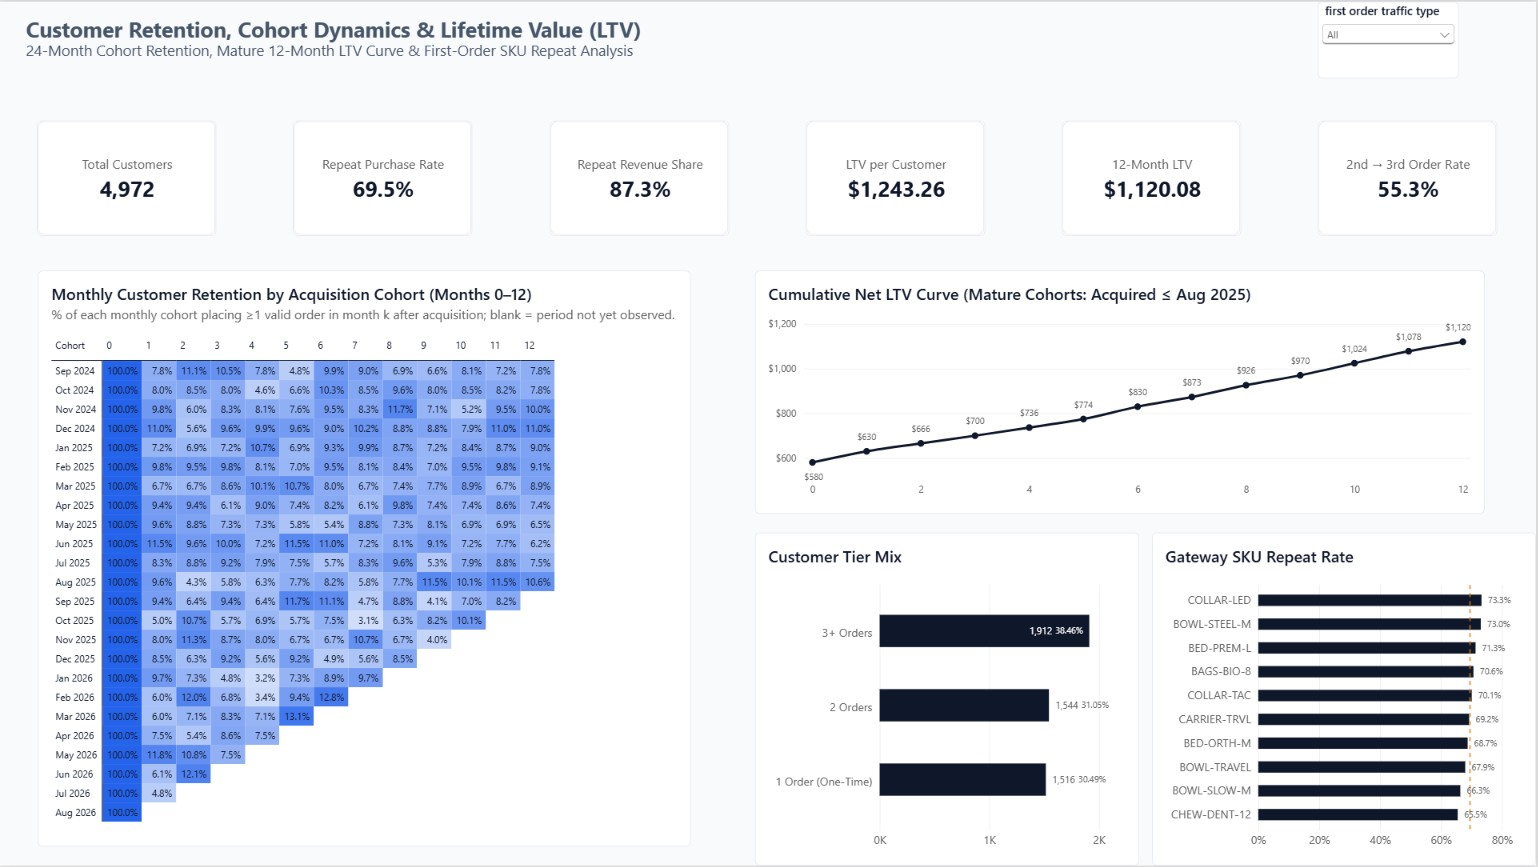

This screenshot's page, from the dashboard's own definition file:
{"tool":"powerbi","page":{"name":"Retention & Cohort LTV","canvas":[1920,1080],"ordinal":1},"visuals":[{"type":"slicer","fields":{"Values":["vw_customers.first_order_traffic_type"]},"box":[1648,0,176,96],"z":0},{"type":"cardVisual","fields":{"Data":["Retention & Cohort Measures.Total Customers"]},"box":[46.4,149.2,224,144],"z":1000},{"type":"cardVisual","fields":{"Data":["Retention & Cohort Measures.12-Month LTV"]},"box":[1327.7,149.2,224,144],"z":2000},{"type":"cardVisual","fields":{"Data":["Retention & Cohort Measures.Repeat Purchase Rate"]},"box":[366.7,149.2,224,144],"z":3000},{"type":"cardVisual","fields":{"Data":["Retention & Cohort Measures.Repeat Customer Revenue Share"]},"box":[687.1,149.2,224,144],"z":4000},{"type":"cardVisual","fields":{"Data":["Retention & Cohort Measures.LTV per Customer"]},"box":[1007.4,149.2,224,144],"z":5000},{"type":"cardVisual","fields":{"Data":["Retention & Cohort Measures.Second-to-Third Conversion"]},"box":[1648,149.2,224,144],"z":6000},{"type":"textbox","box":[32,16,848,64],"z":7000},{"type":"textbox","box":[32,48,784,80],"z":8000},{"type":"pivotTable","title":"Monthly Customer Retention by Acquisition Cohort (Months 0–12)","fields":{"Columns":["vw_orders_enriched.cohort_month_index"],"Rows":["vw_customers.cohort_month"],"Values":["Retention & Cohort Measures.Cohort Retention %"]},"box":[48,336,816,720],"z":9000},{"type":"lineChart","title":"Cumulative Net LTV Curve (Mature Cohorts: Acquired ≤ Aug 2025)","fields":{"Category":["vw_orders_enriched.cohort_month_index"],"Y":["Retention & Cohort Measures.Cumulative LTV"]},"box":[944,336,912,304],"z":10000},{"type":"clusteredBarChart","title":"Customer Tier Mix","fields":{"Category":["vw_customers.customer_order_tier"],"Y":["Retention & Cohort Measures.Total Customers"]},"box":[944,664,480,416],"z":11000},{"type":"clusteredBarChart","title":"Gateway SKU Repeat Rate","fields":{"Category":["vw_customers.first_sku"],"Y":["Retention & Cohort Measures.Gateway SKU Repeat Rate"]},"box":[1440,664,480,416],"z":12000}]}

Visuals, with their boxes in screenshot pixels (x1, y1, x2, y2), scaled from the page's 1920x1080 canvas onto the 1538x867 screenshot:
slicer - vw_customers.first_order_traffic_type: (x1=1320, y1=0, x2=1461, y2=77)
cardVisual - Retention & Cohort Measures.Total Customers: (x1=37, y1=120, x2=217, y2=235)
cardVisual - Retention & Cohort Measures.12-Month LTV: (x1=1064, y1=120, x2=1243, y2=235)
cardVisual - Retention & Cohort Measures.Repeat Purchase Rate: (x1=294, y1=120, x2=473, y2=235)
cardVisual - Retention & Cohort Measures.Repeat Customer Revenue Share: (x1=550, y1=120, x2=730, y2=235)
cardVisual - Retention & Cohort Measures.LTV per Customer: (x1=807, y1=120, x2=986, y2=235)
cardVisual - Retention & Cohort Measures.Second-to-Third Conversion: (x1=1320, y1=120, x2=1500, y2=235)
textbox: (x1=26, y1=13, x2=705, y2=64)
textbox: (x1=26, y1=39, x2=654, y2=103)
"Monthly Customer Retention by Acquisition Cohort (Months 0–12)" pivotTable: (x1=38, y1=270, x2=692, y2=848)
"Cumulative Net LTV Curve (Mature Cohorts: Acquired ≤ Aug 2025)" lineChart: (x1=756, y1=270, x2=1487, y2=514)
"Customer Tier Mix" clusteredBarChart: (x1=756, y1=533, x2=1141, y2=866)
"Gateway SKU Repeat Rate" clusteredBarChart: (x1=1154, y1=533, x2=1537, y2=866)
